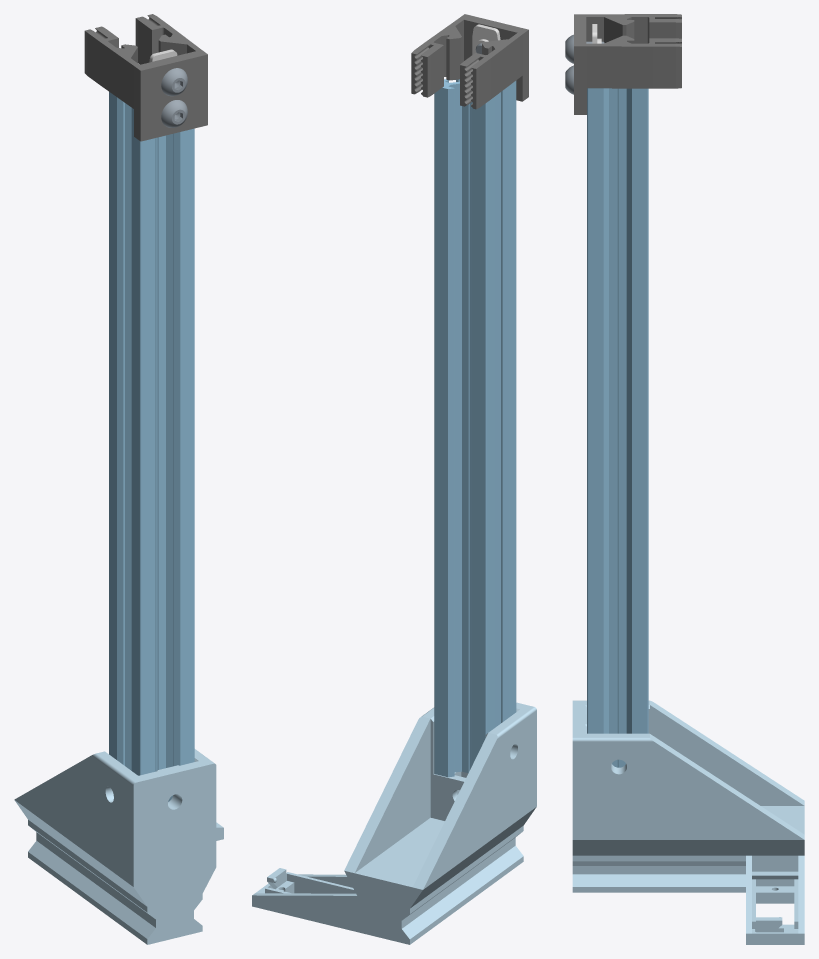
The model's file is arm.obj.
3 renders of one model, left to right at view 1: azimuth 30°, elevation 25°; view 2: azimuth 150°, elevation 25°; view 3: azimuth 270°, elevation 25°, orthographic. The views are drawn at different scales.
Visible parts, largest first — view 1: mesh137, mesh29, mesh63, mesh124, mesh21, mesh4, mesh66, mesh65, mesh7, mesh3, mesh62, mesh210 (+21 smaller); view 2: mesh46, mesh12, mesh124, mesh131, mesh49, mesh21, mesh4, mesh48, mesh20, mesh24, mesh45, mesh116 (+22 smaller); view 3: mesh119, mesh55, mesh38, mesh40, mesh57, mesh120, mesh132, mesh37, mesh54, mesh215, mesh139, mesh392 (+19 smaller).
Part boxes in pixels (box(x1,y1,x2,y2)): mesh137: box(133, 763, 216, 944); mesh29: box(141, 138, 154, 774); mesh63: box(180, 128, 193, 765); mesh124: box(14, 755, 133, 886); mesh21: box(131, 108, 139, 775); mesh4: box(109, 92, 116, 759); mesh66: box(166, 133, 173, 801); mesh65: box(158, 135, 165, 769); mesh7: box(125, 103, 131, 770); mesh3: box(117, 97, 123, 764); mesh62: box(174, 132, 180, 765); mesh210: box(140, 54, 207, 141); mesh46: box(435, 87, 447, 777); mesh12: box(472, 102, 484, 765); mesh124: box(423, 710, 536, 889); mesh131: box(252, 871, 422, 944); mesh49: box(451, 83, 461, 772); mesh21: box(508, 81, 515, 717); mesh4: box(487, 97, 494, 733); mesh48: box(462, 104, 468, 773); mesh20: box(502, 86, 508, 721); mesh24: box(494, 92, 500, 727); mesh45: box(448, 88, 453, 777); mesh116: box(355, 719, 430, 872); mesh119: box(572, 741, 804, 839); mesh55: box(588, 88, 603, 733); mesh38: box(632, 88, 647, 733); mesh40: box(618, 88, 626, 767); mesh57: box(609, 88, 616, 767); mesh120: box(650, 705, 804, 805); mesh132: box(572, 840, 804, 855); mesh37: box(627, 88, 631, 733); mesh54: box(603, 88, 607, 733); mesh215: box(587, 46, 652, 88); mesh139: box(572, 874, 745, 886); mesh392: box(574, 14, 675, 46).
Bounding box in the file's own units: 0.065 × 0.3037 × 0.0773.
